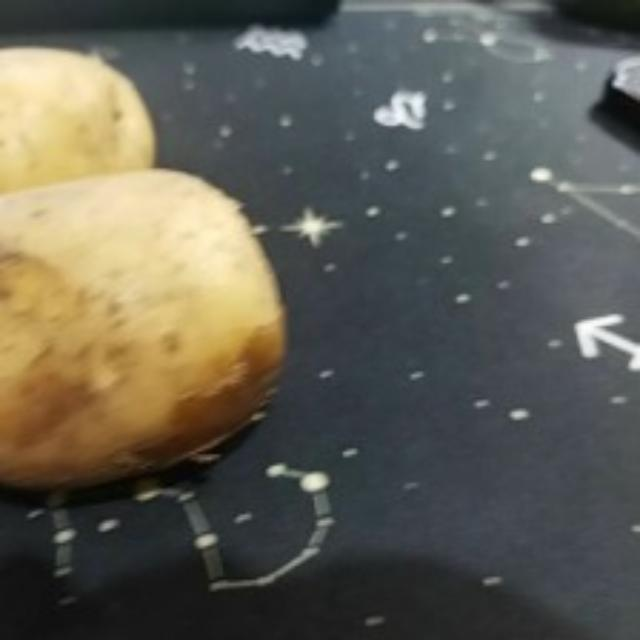Damaged potato: (0, 163, 292, 499)
Potato: (0, 38, 158, 290)
